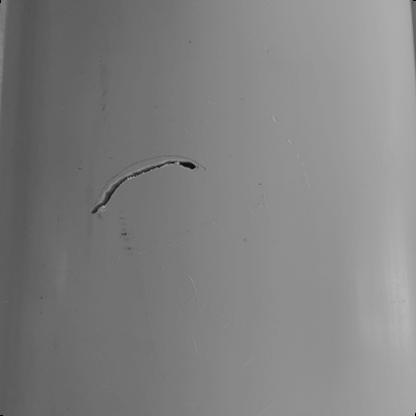fengxi: (90, 159, 199, 216)
